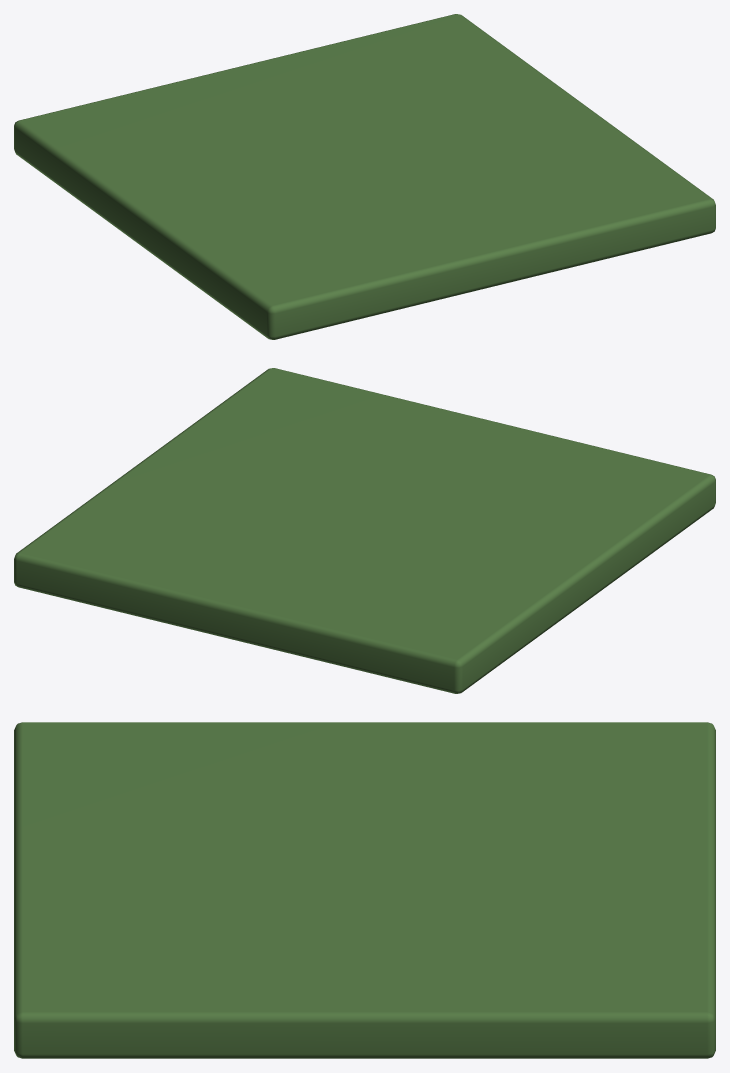
File: Grass_tile.fbx
3 views of the same model, one above another, from view 1: azimuth 30°, elevation 25°; view 2: azimuth 150°, elevation 25°; view 3: azimuth 270°, elevation 25° (orthographic). The views are drawn at different scales.
Visible parts, largest first — view 1: Grass_tile; view 2: Grass_tile; view 3: Grass_tile.
Boxes of the visible parts, x1,y1,x2,y2 form: Grass_tile: [14, 14, 715, 339]; Grass_tile: [14, 368, 715, 693]; Grass_tile: [14, 722, 715, 1058].
Size of the model in its own units: 100 by 7.35 by 100.
